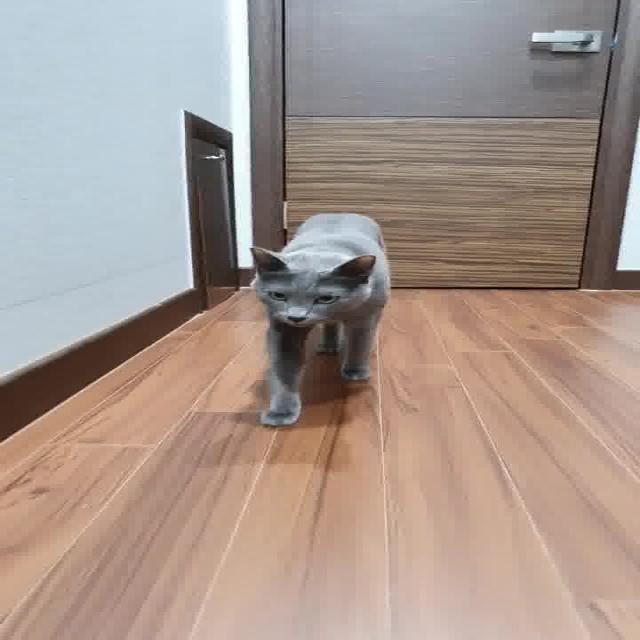cat: (208, 199, 432, 443)
